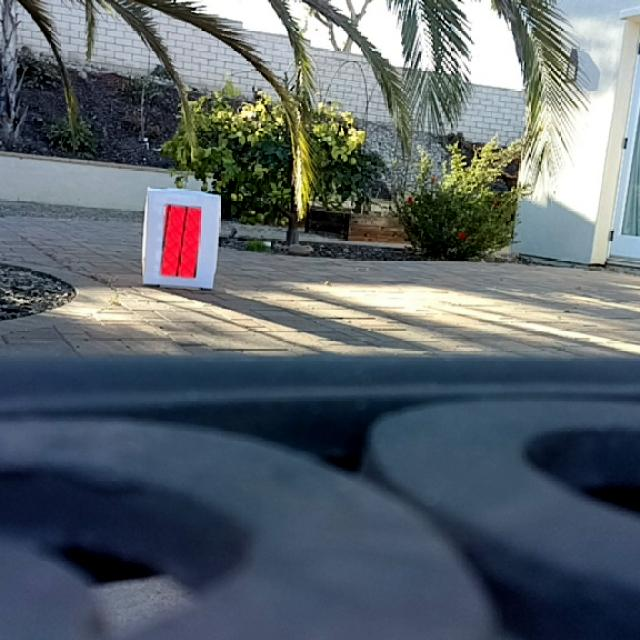led: (163, 205, 200, 278)
